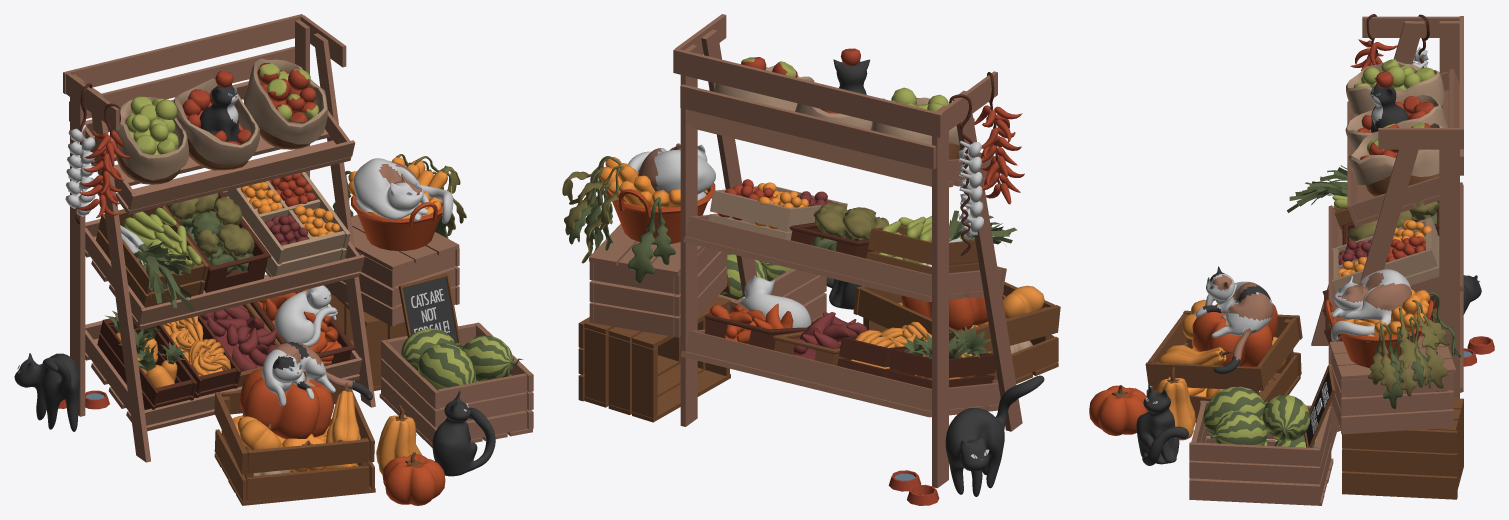
Rendered from vegetable_market.glb.
3 renders of one model, left to right at view 1: azimuth 30°, elevation 25°; view 2: azimuth 150°, elevation 25°; view 3: azimuth 270°, elevation 25°, orthographic. The views are drawn at different scales.
Parts seen in each view (by area): view 1: polySurface44, polySurface41, pCube5, polySurface96, polySurface97, polySurface100, pSphere8, PM3D_Sphere3D2_3, polySurface1, pCube4, polySurface67, polySurface101 (+47 smaller); view 2: polySurface37, polySurface41, pCube5, polySurface92, polySurface96, pCube8, polySurface101, polySurface44, pCube1, PM3D_Sphere3D2_4, polySurface97, polySurface100 (+37 smaller); view 3: polySurface37, polySurface41, polySurface44, pCube1, PM3D_Sphere3D3, PM3D_Sphere3D2_3, pCube4, polySurface173, polySurface97, polySurface67, polySurface144, polySurface148 (+33 smaller).
Part boxes in pixels (x1=…): polySurface44: x1=214, y1=379, x2=374, y2=501; polySurface41: x1=324, y1=215, x2=459, y2=326; pCube5: x1=63, y1=14, x2=303, y2=94; polySurface96: x1=85, y1=190, x2=364, y2=324; polySurface97: x1=85, y1=81, x2=355, y2=210; polySurface100: x1=91, y1=88, x2=150, y2=462; pSphere8: x1=239, y1=369, x2=333, y2=439; PM3D_Sphere3D2_3: x1=353, y1=158, x2=453, y2=223; polySurface1: x1=227, y1=172, x2=350, y2=277; pCube4: x1=313, y1=33, x2=375, y2=407; polySurface67: x1=243, y1=58, x2=327, y2=149; polySurface101: x1=70, y1=74, x2=85, y2=416; polySurface37: x1=578, y1=296, x2=730, y2=422; polySurface41: x1=589, y1=223, x2=727, y2=337; pCube5: x1=673, y1=48, x2=942, y2=137; polySurface92: x1=686, y1=329, x2=1000, y2=411; polySurface96: x1=686, y1=215, x2=1006, y2=296; pCube8: x1=680, y1=84, x2=936, y2=169; polySurface101: x1=932, y1=105, x2=948, y2=488; polySurface44: x1=853, y1=282, x2=1060, y2=380; pCube1: x1=680, y1=44, x2=697, y2=426; PM3D_Sphere3D2_4: x1=945, y1=375, x2=1044, y2=496; polySurface97: x1=686, y1=110, x2=995, y2=183; polySurface100: x1=952, y1=90, x2=1022, y2=431; polySurface37: x1=1342, y1=398, x2=1463, y2=499; polySurface41: x1=1329, y1=336, x2=1455, y2=434; polySurface44: x1=1145, y1=310, x2=1302, y2=418; pCube1: x1=1439, y1=149, x2=1459, y2=398; PM3D_Sphere3D3: x1=1195, y1=266, x2=1273, y2=373; PM3D_Sphere3D2_3: x1=1331, y1=269, x2=1411, y2=341; pCube4: x1=1329, y1=149, x2=1418, y2=450; polySurface173: x1=1136, y1=384, x2=1188, y2=465; polySurface97: x1=1347, y1=68, x2=1459, y2=222; polySurface67: x1=1348, y1=123, x2=1442, y2=196; polySurface144: x1=1189, y1=442, x2=1320, y2=466; polySurface148: x1=1189, y1=478, x2=1320, y2=502.
Size of the model in its own units: 0.2399 by 0.1879 by 0.2071.
